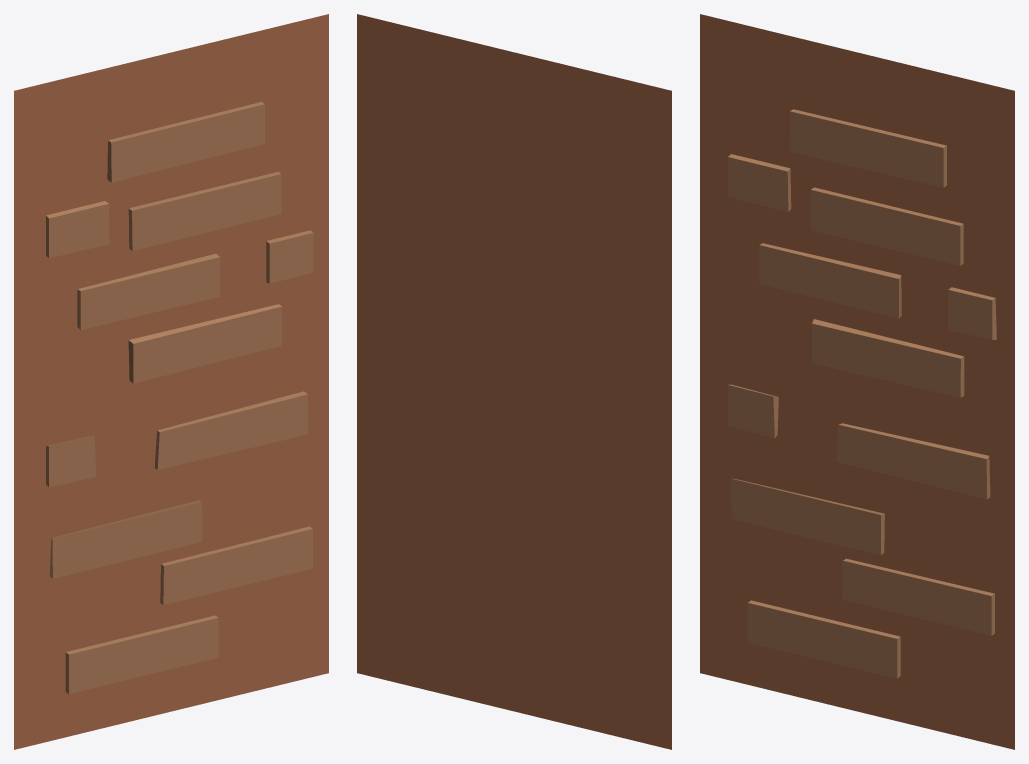
File: Ext-BrickV3Small.fbx
3 renders of one model, left to right at view 1: azimuth 30°, elevation 25°; view 2: azimuth 150°, elevation 25°; view 3: azimuth 330°, elevation 25°, orthographic.
Visible parts, largest first — view 1: Ext-BrickV3Small; view 2: Ext-BrickV3Small; view 3: Ext-BrickV3Small.
Boxes of the visible parts, box(x1,y1,x2,y2) form: Ext-BrickV3Small: box(14, 14, 328, 749); Ext-BrickV3Small: box(357, 14, 671, 749); Ext-BrickV3Small: box(700, 14, 1014, 749).
Bounding box in the file's own units: 100 × 200 × 2.
